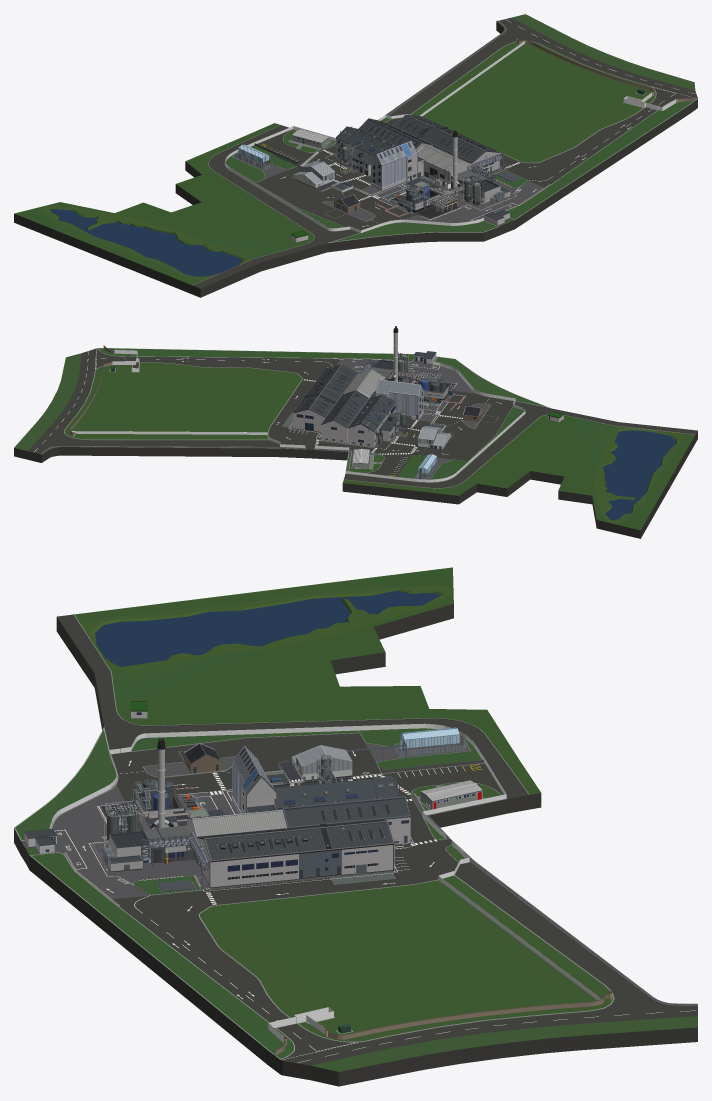
File: test_factory.glb
3 views of the same model, one above another, from view 1: azimuth 30°, elevation 25°; view 2: azimuth 150°, elevation 25°; view 3: azimuth 270°, elevation 25° (orthographic). The views are drawn at different scales.
Parts seen in each view (by area): view 1: Plane, Cube.047, Plane.053, Cube.025, Cube.045, Cube.036, Cube.007, Cube.001, Cube.067, Cube.004; view 2: Plane, Cube.047, Plane.053, Cube.036, Cube.007, Cube.025, Cube.045, Cube.001, Cube.028, Cube.011, Cube.006, Plane.022; view 3: Plane, Cube.047, Plane.053, Cube.007, Cube.036, Cube.045, Cube.025, Cube.067, Cube.001, Cube.004, Cube.009, Cube (+5 smaller).
Part boxes in pixels (<box>): Plane: <box>14,14,697,297</box>; Cube.047: <box>392,114,499,175</box>; Plane.053: <box>225,41,524,232</box>; Cube.025: <box>371,140,423,190</box>; Cube.045: <box>416,144,471,183</box>; Cube.036: <box>336,126,395,158</box>; Cube.007: <box>358,118,432,149</box>; Cube.001: <box>293,161,335,188</box>; Cube.067: <box>517,40,694,102</box>; Cube.004: <box>291,129,330,148</box>; Plane: <box>14,348,697,538</box>; Cube.047: <box>292,364,358,432</box>; Plane.053: <box>71,362,525,482</box>; Cube.036: <box>348,394,395,446</box>; Cube.007: <box>321,390,368,443</box>; Cube.025: <box>369,378,423,419</box>; Cube.045: <box>344,369,384,398</box>; Cube.001: <box>418,426,450,449</box>; Cube.028: <box>377,380,420,395</box>; Cube.011: <box>413,351,563,422</box>; Cube.006: <box>379,413,400,441</box>; Plane.022: <box>304,379,488,454</box>; Plane: <box>14,567,697,1086</box>; Cube.047: <box>197,819,394,887</box>; Plane.053: <box>49,723,600,1000</box>; Cube.007: <box>277,796,410,844</box>; Cube.036: <box>274,775,400,809</box>; Cube.045: <box>187,810,286,862</box>; Cube.025: <box>232,745,276,813</box>; Cube.067: <box>274,994,609,1055</box>; Cube.001: <box>292,745,352,781</box>; Cube.004: <box>420,780,482,809</box>; Cube.009: <box>143,825,194,863</box>; Cube: <box>400,727,459,755</box>.
Size of the model in its own units: 84.2 by 9.82 by 48.24.
3 materials, 1 textured.
